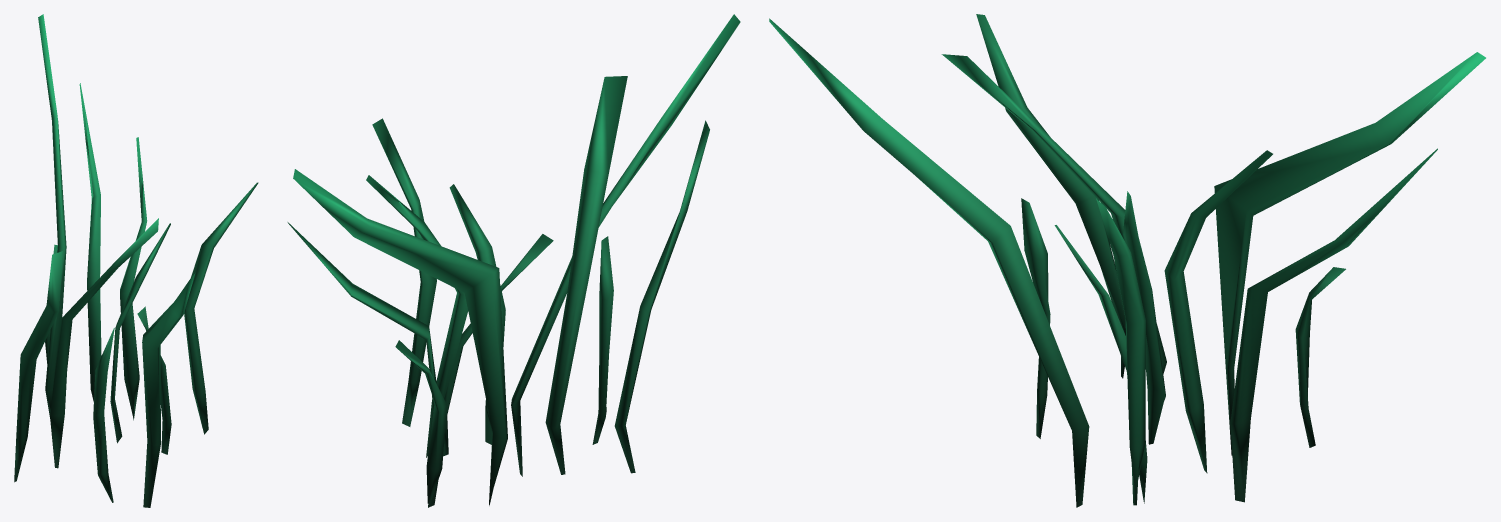
The model's file is grass9.fbx.
The picture shows the model from 3 angles, left to right: view 1: azimuth 30°, elevation 25°; view 2: azimuth 150°, elevation 25°; view 3: azimuth 270°, elevation 25°; orthographic projection. The views are drawn at different scales.
Parts seen in each view (by area): view 1: grass4; view 2: grass4; view 3: grass4.
Part boxes in pixels (x1,y1,x2,y2): grass4: (14,14,258,507); grass4: (287,14,740,507); grass4: (769,14,1485,507).
Bounding box in the file's own units: 119 × 167 × 223.
